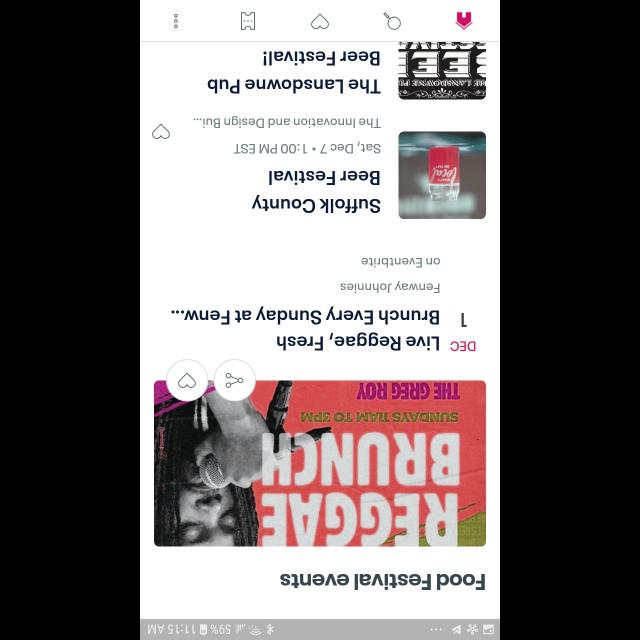icon: (214, 358, 256, 402), (166, 359, 208, 401), (455, 12, 473, 30), (383, 12, 401, 30), (311, 14, 329, 30), (240, 12, 256, 30), (152, 124, 170, 140), (174, 14, 178, 28)
image: (154, 380, 486, 546), (398, 131, 486, 219), (398, 42, 486, 100)
text: (171, 306, 439, 350), (207, 51, 381, 94), (194, 116, 380, 154), (252, 170, 381, 213), (280, 574, 484, 590), (340, 280, 440, 294), (360, 256, 440, 268), (450, 341, 474, 351), (461, 312, 467, 328)
uppertaskbar: (140, 618, 500, 640)
